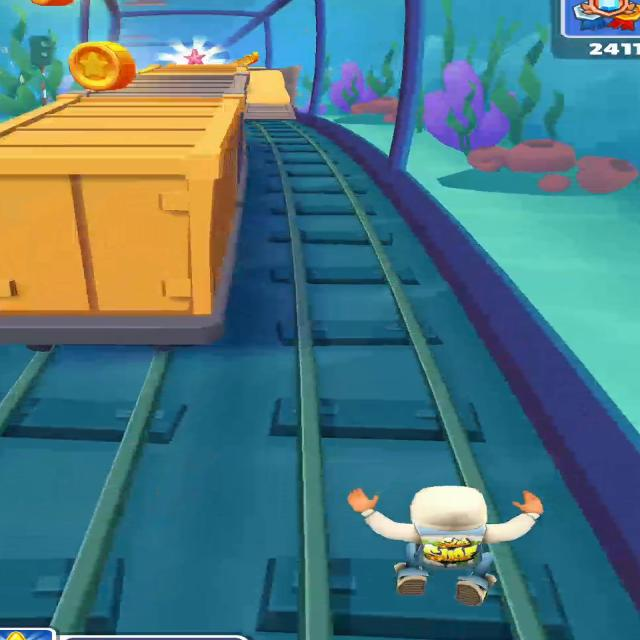climber: (246, 69, 295, 115)
train: (0, 94, 262, 348)
